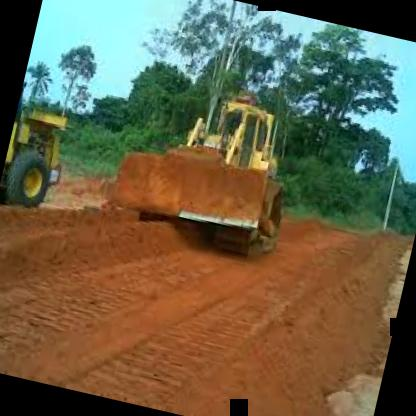car: (108, 67, 317, 264), (0, 59, 94, 222)
